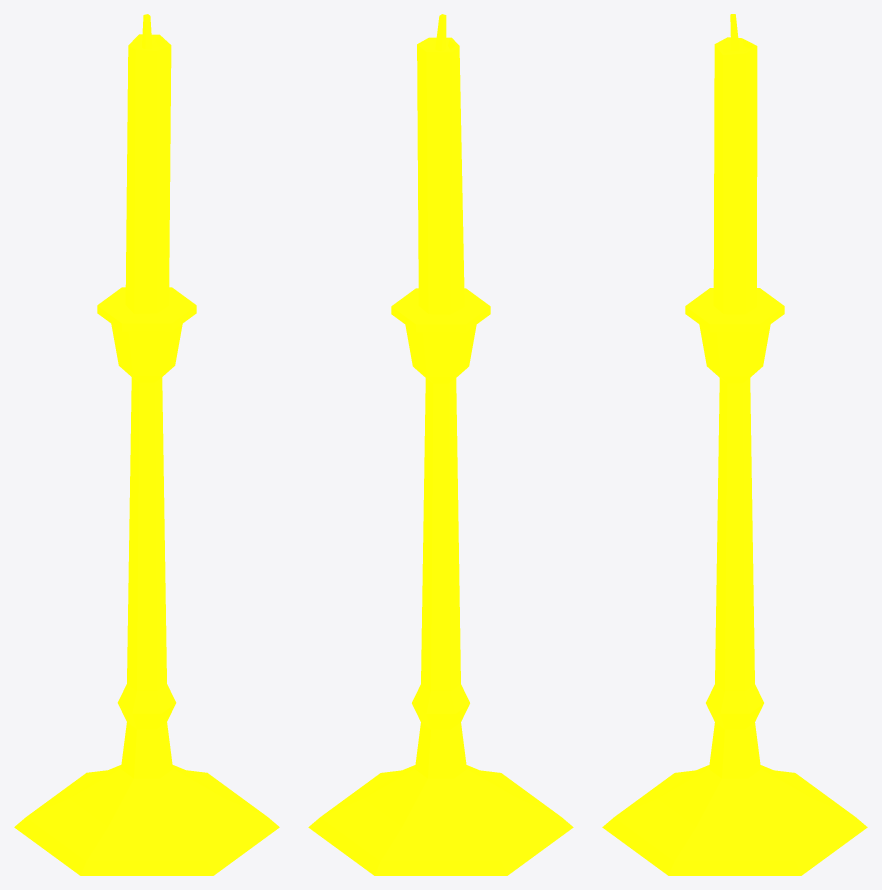
The model's file is candle-holder-tall-a-unlit-christmas.glb.
The picture shows the model from 3 angles, left to right: view 1: azimuth 30°, elevation 25°; view 2: azimuth 150°, elevation 25°; view 3: azimuth 270°, elevation 25°; orthographic projection.
Visible parts, largest first — view 1: candle_holder_tall_a_unlit_christmas; view 2: candle_holder_tall_a_unlit_christmas; view 3: candle_holder_tall_a_unlit_christmas.
Part boxes in pixels (box(x1,y1,x2,y2)): candle_holder_tall_a_unlit_christmas: box(14, 14, 279, 875); candle_holder_tall_a_unlit_christmas: box(308, 14, 573, 875); candle_holder_tall_a_unlit_christmas: box(602, 14, 867, 875).
Size of the model in its own units: 0.1644 by 0.64 by 0.1898.
Materials: 1 (1 with a texture image).
